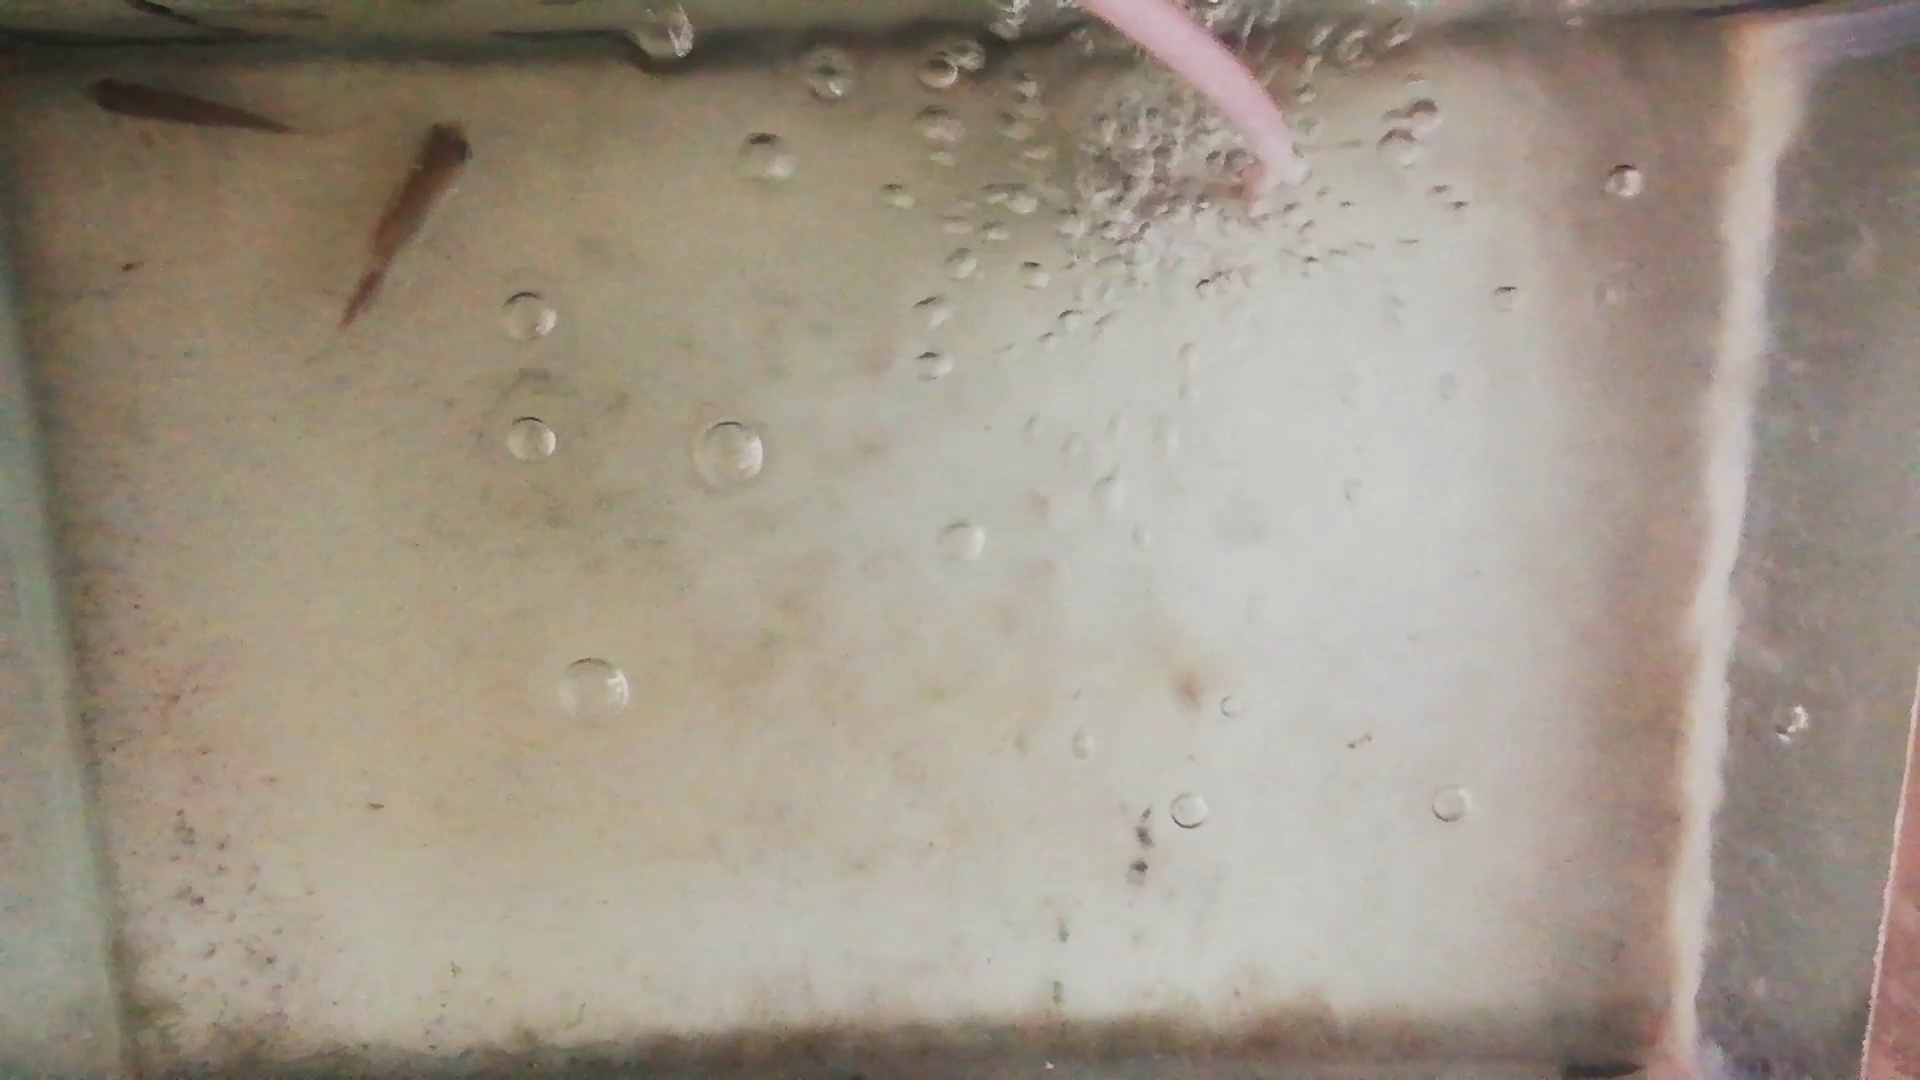fish: (340, 123, 472, 326), (80, 79, 285, 135)
